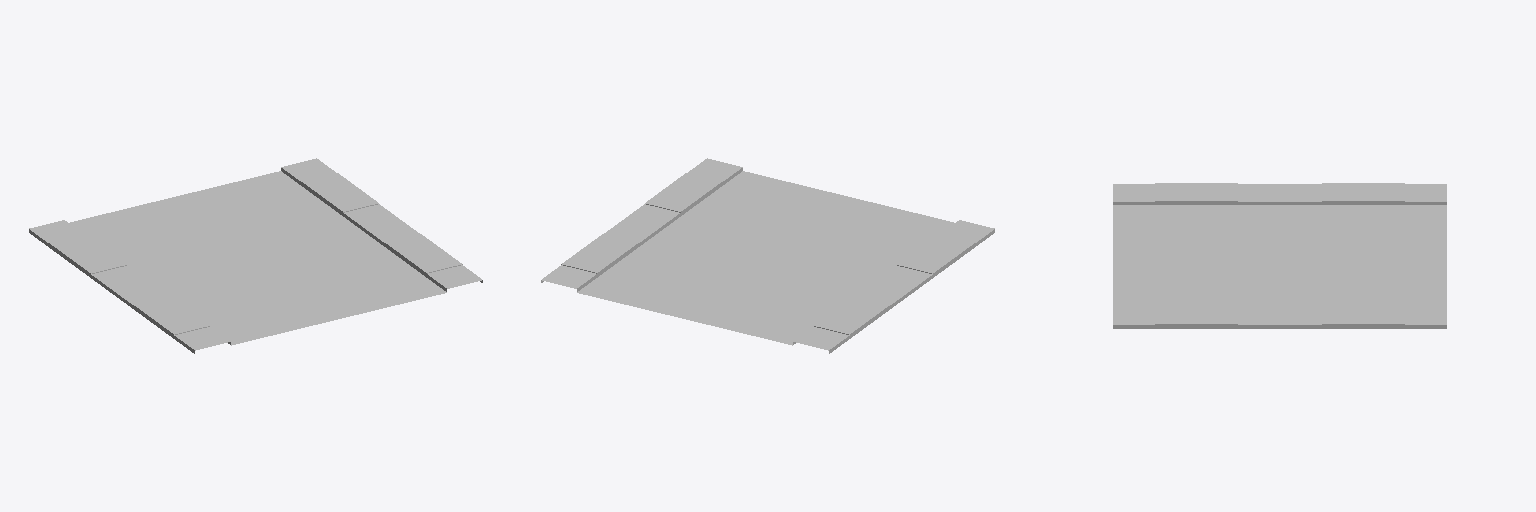
Rendered from Street_Straight.obj.
The picture shows the model from 3 angles: view 1: azimuth 30°, elevation 25°; view 2: azimuth 150°, elevation 25°; view 3: azimuth 270°, elevation 25°; orthographic projection.
Visible parts, largest first — view 1: Street_Straight_Cube.030; view 2: Street_Straight_Cube.030; view 3: Street_Straight_Cube.030.
Boxes of the visible parts, <box> form: Street_Straight_Cube.030: <box>29,158,482,353</box>; Street_Straight_Cube.030: <box>541,158,994,353</box>; Street_Straight_Cube.030: <box>1113,183,1446,328</box>.
Bounding box in the file's own units: 8 × 0.12 × 8.